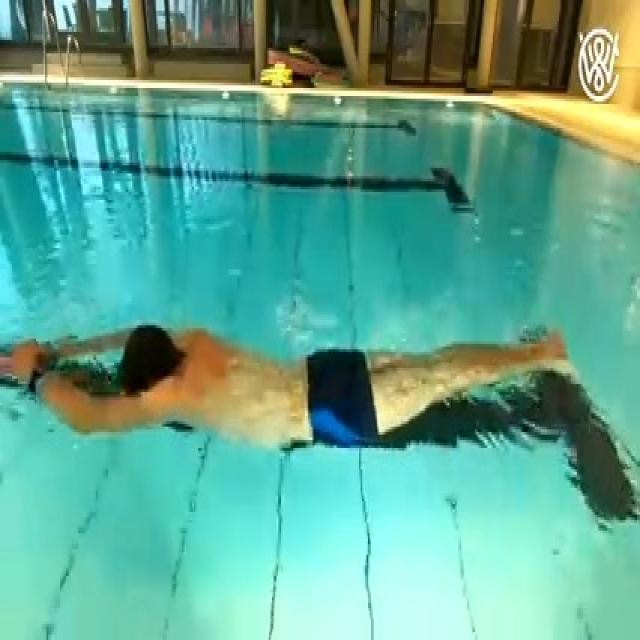Swimming: (1, 317, 578, 471)
